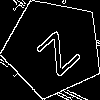Z: (28, 23, 82, 78)
